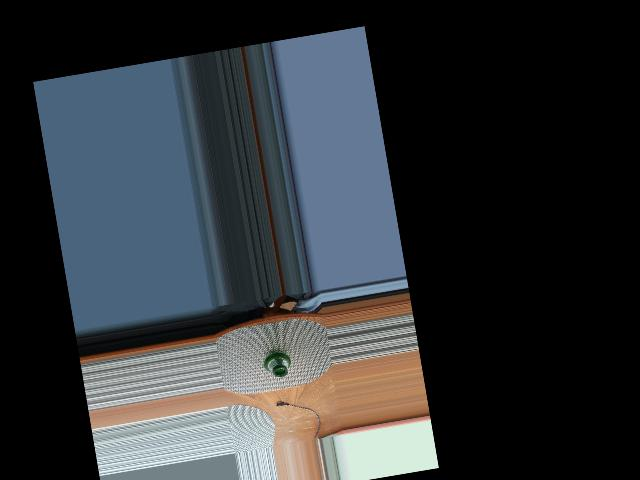beer: (262, 348, 291, 379)
